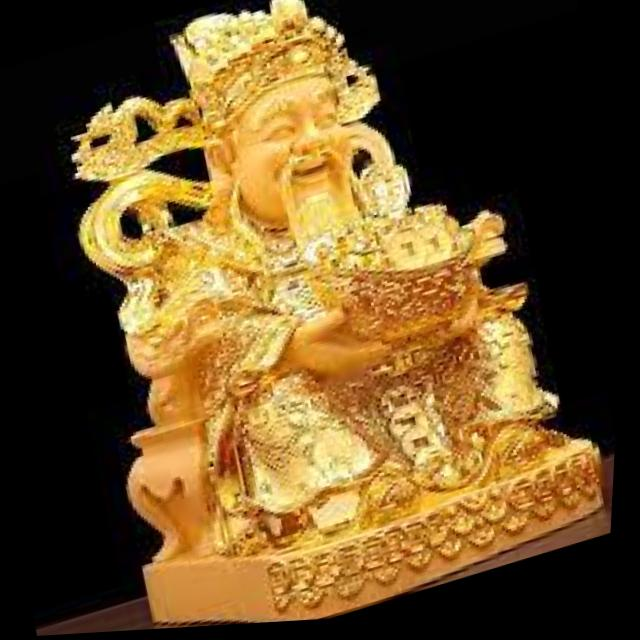Cai shen: (40, 0, 524, 508)
